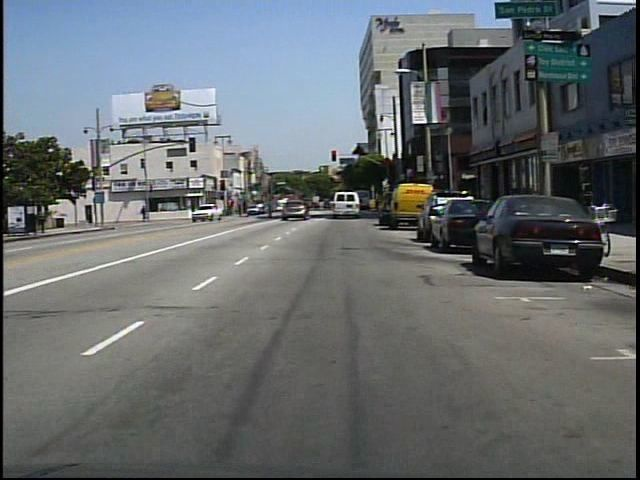person: (265, 193, 282, 222), (141, 204, 150, 223)
